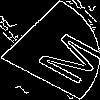M: (24, 25, 100, 87)
